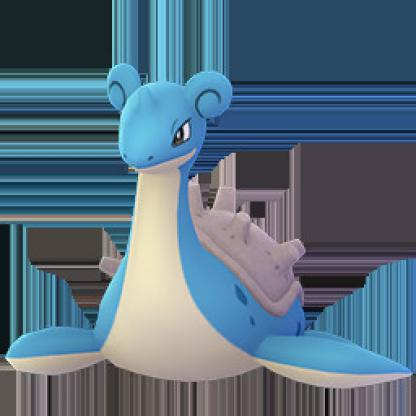Lapras: (8, 55, 416, 398)
